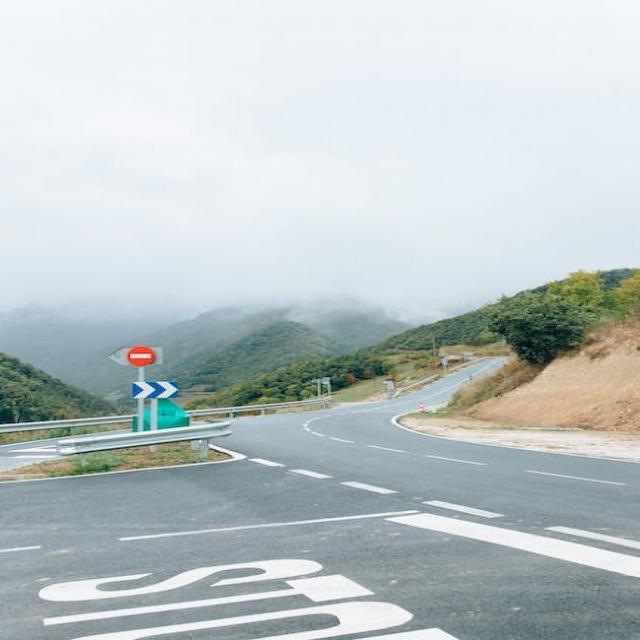no entry: (126, 346, 155, 366)
